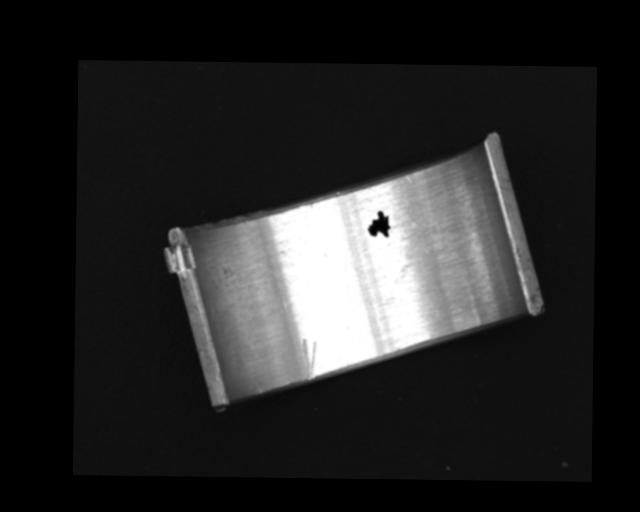blot: (367, 209, 392, 239)
nick: (300, 338, 317, 380), (255, 380, 262, 394)
